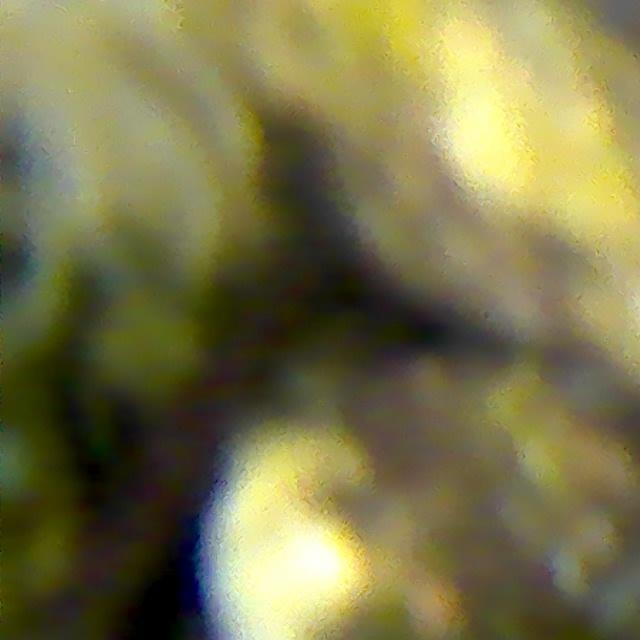SeaGrape: (0, 425, 54, 510)
